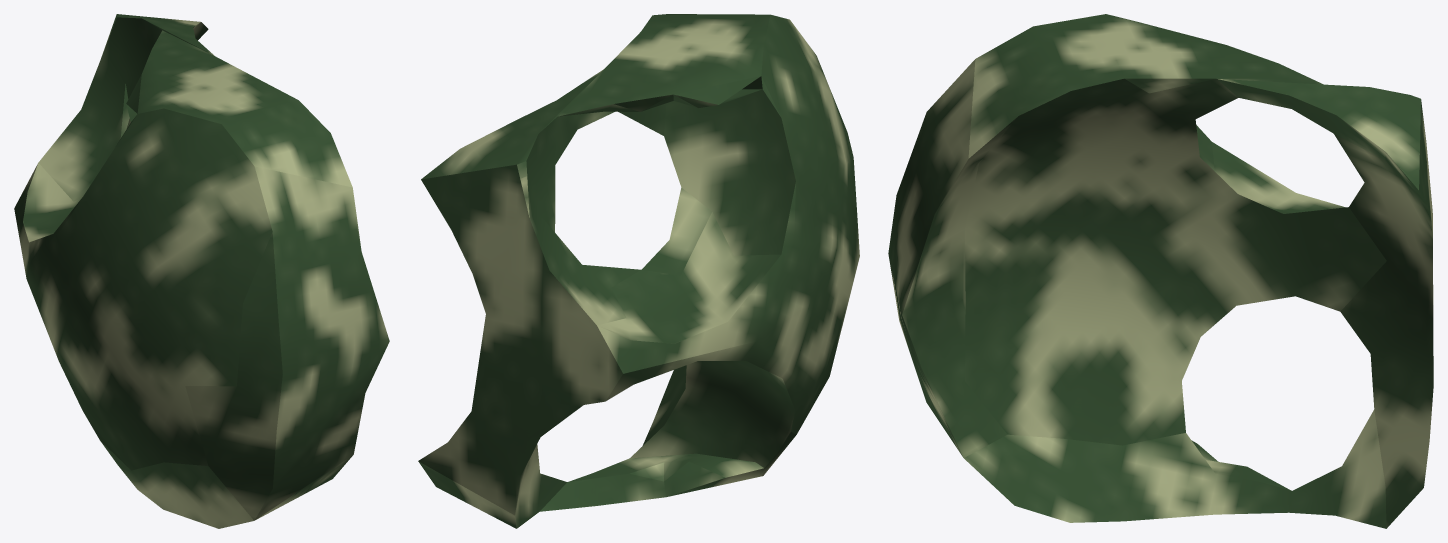
Rendered from link_body_15_composite.obj.
3 renders of one model, left to right at view 1: azimuth 30°, elevation 25°; view 2: azimuth 150°, elevation 25°; view 3: azimuth 270°, elevation 25°, orthographic. The views are drawn at different scales.
Size of the model in its own units: 8.76 by 13.2 by 14.24.
Materials: 1 (1 with a texture image).
